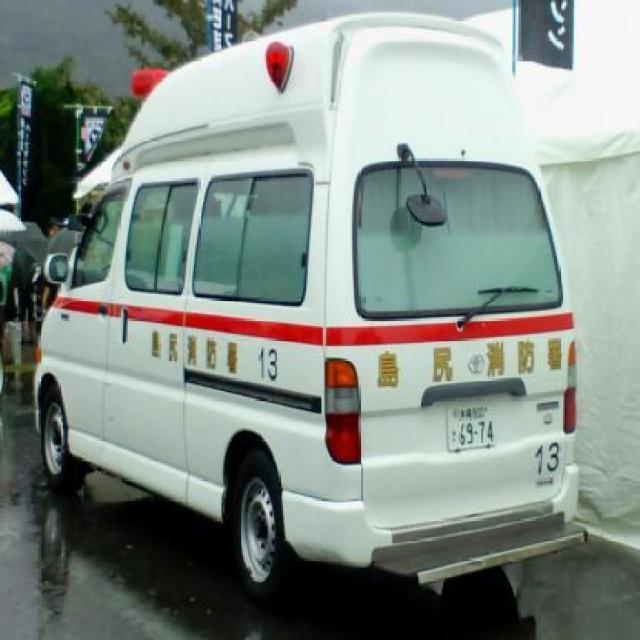emergency: (31, 10, 588, 602)
